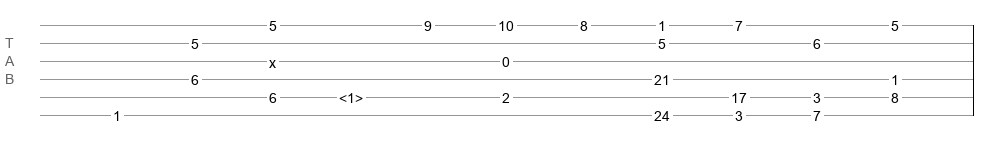0: (502, 54, 510, 64)
1: (113, 108, 121, 118), (658, 18, 666, 28), (891, 72, 899, 82)
10: (498, 18, 514, 28)
17: (731, 90, 747, 100)
2: (502, 90, 510, 100)
21: (654, 72, 670, 82)
24: (654, 108, 670, 118)
3: (735, 108, 743, 118), (813, 90, 821, 100)
5: (191, 36, 199, 46), (269, 18, 277, 28), (658, 36, 666, 46), (891, 18, 899, 28)
6: (191, 72, 199, 82), (269, 90, 277, 100), (813, 36, 821, 46)
7: (735, 18, 743, 28), (813, 108, 821, 118)
8: (580, 18, 588, 28), (891, 90, 899, 100)
9: (424, 18, 432, 28)
harmonic: (339, 90, 363, 100)
x: (269, 55, 276, 63)
